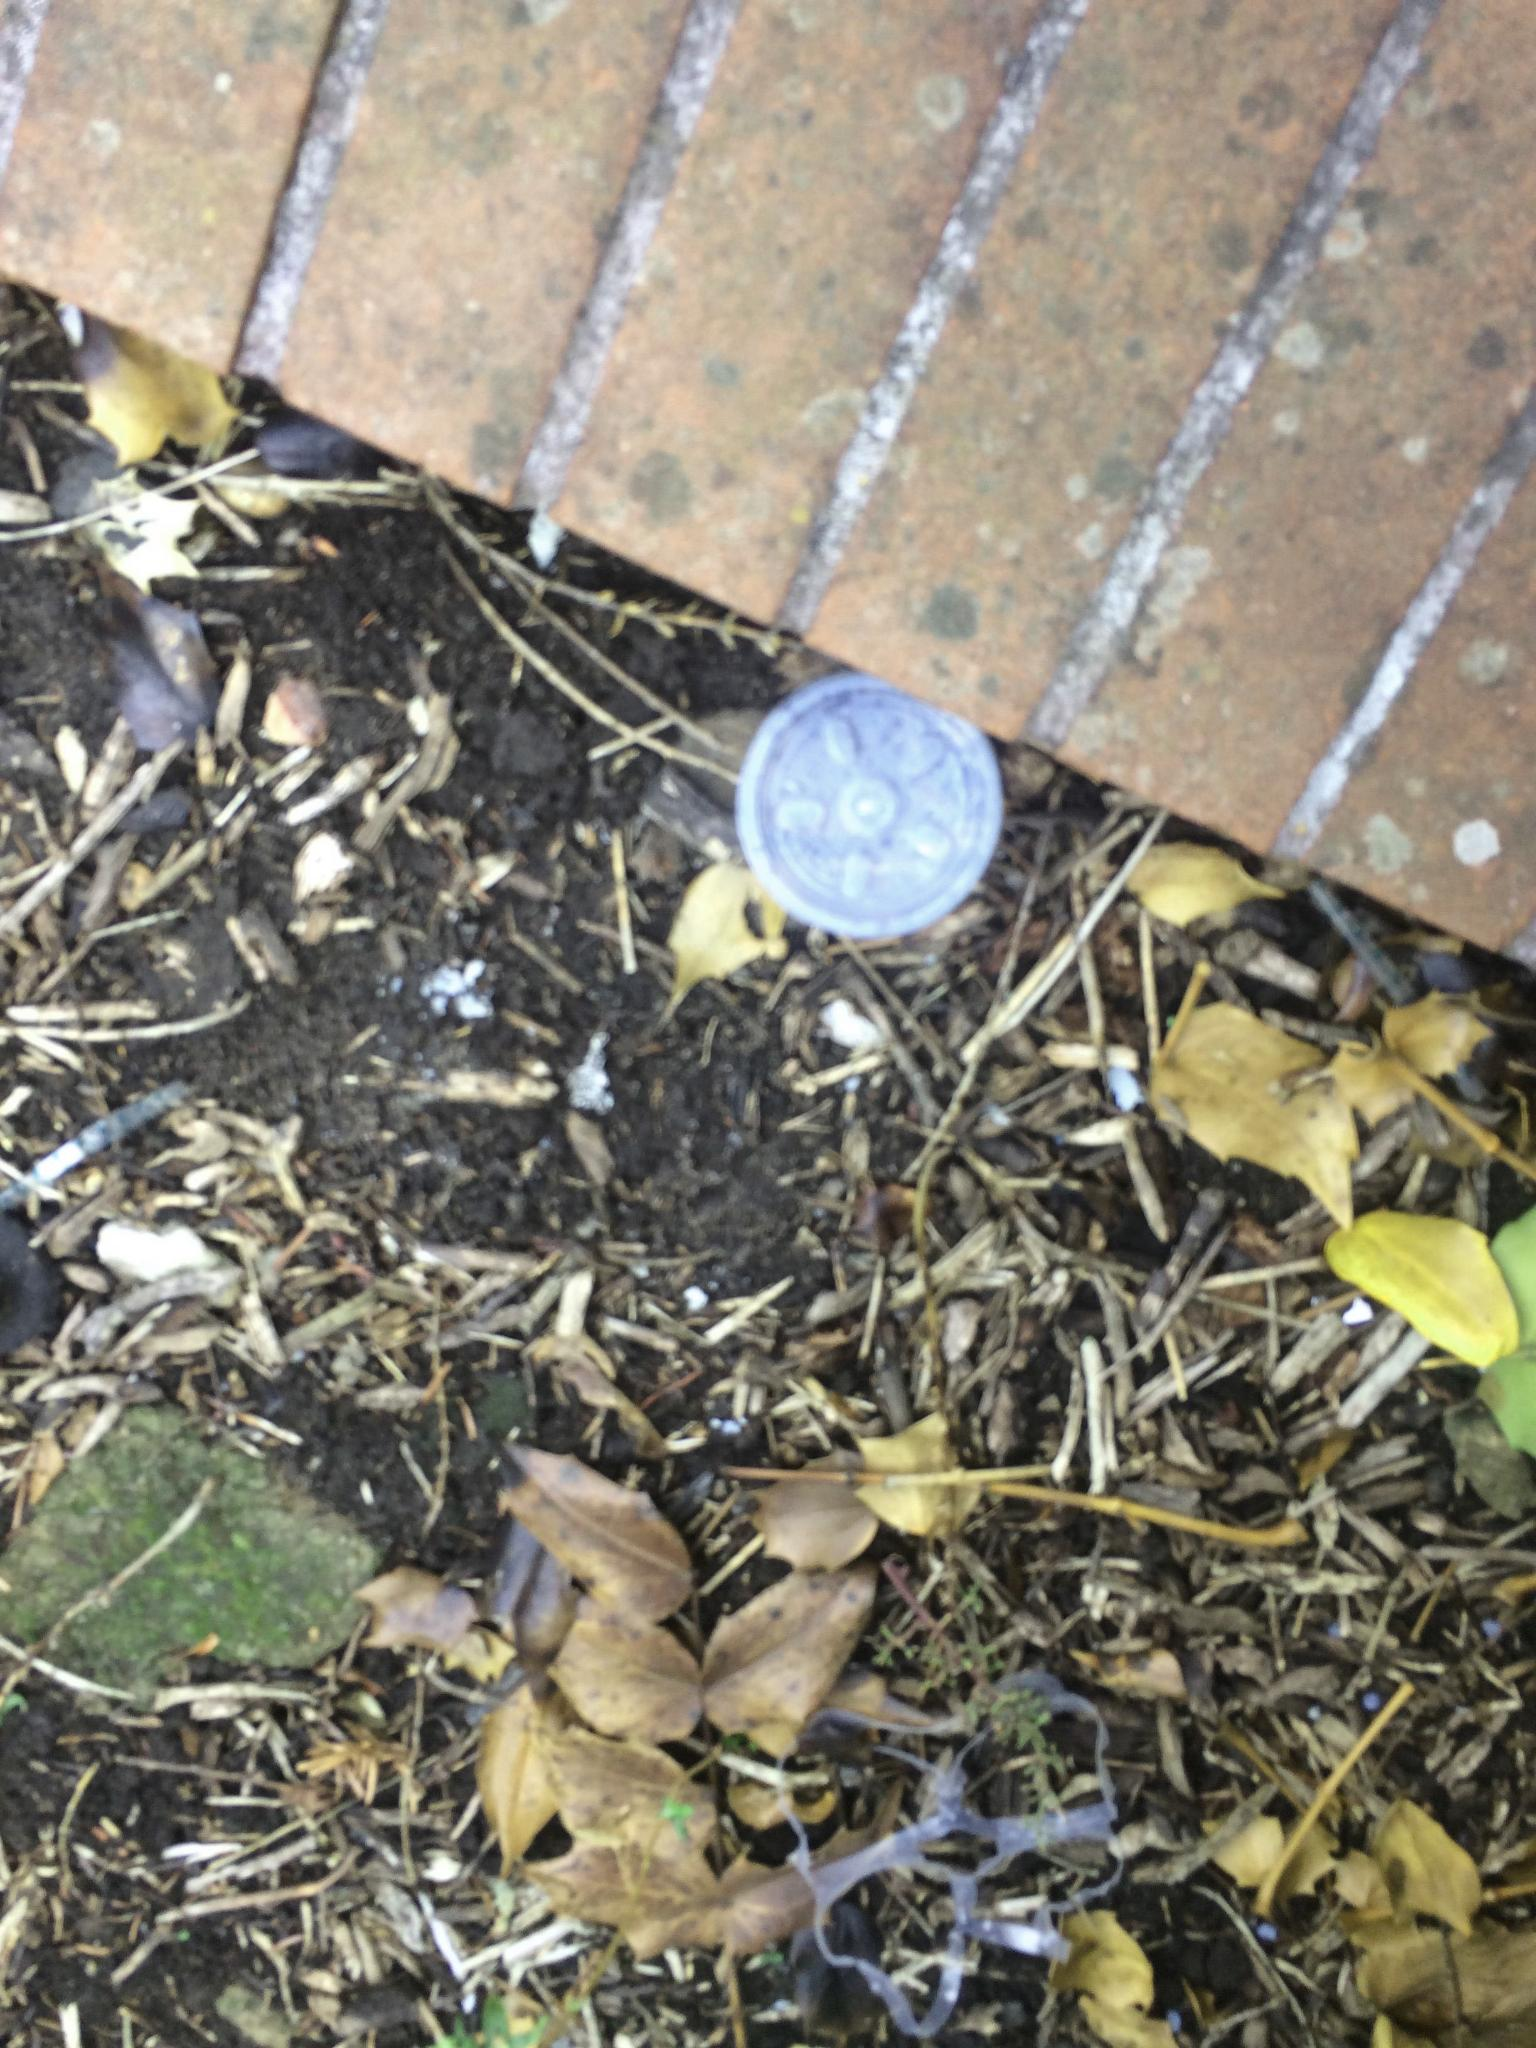Plastic: (710, 671, 1026, 953)
